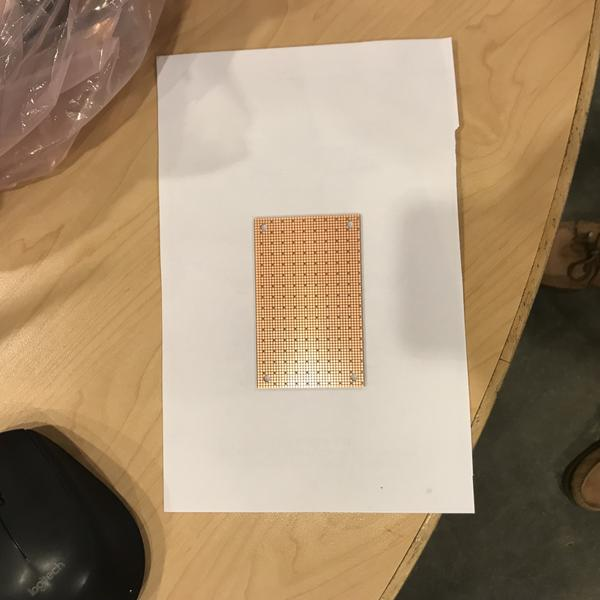board: (253, 213, 366, 391)
